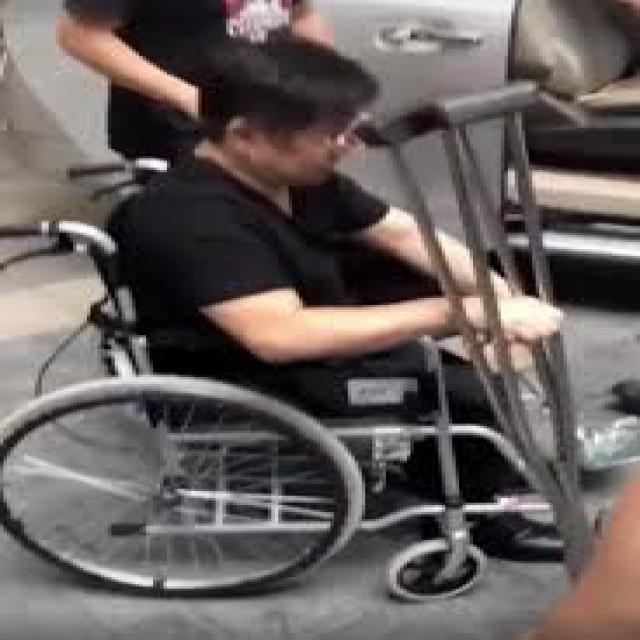wheelchairs: (0, 155, 595, 600)
